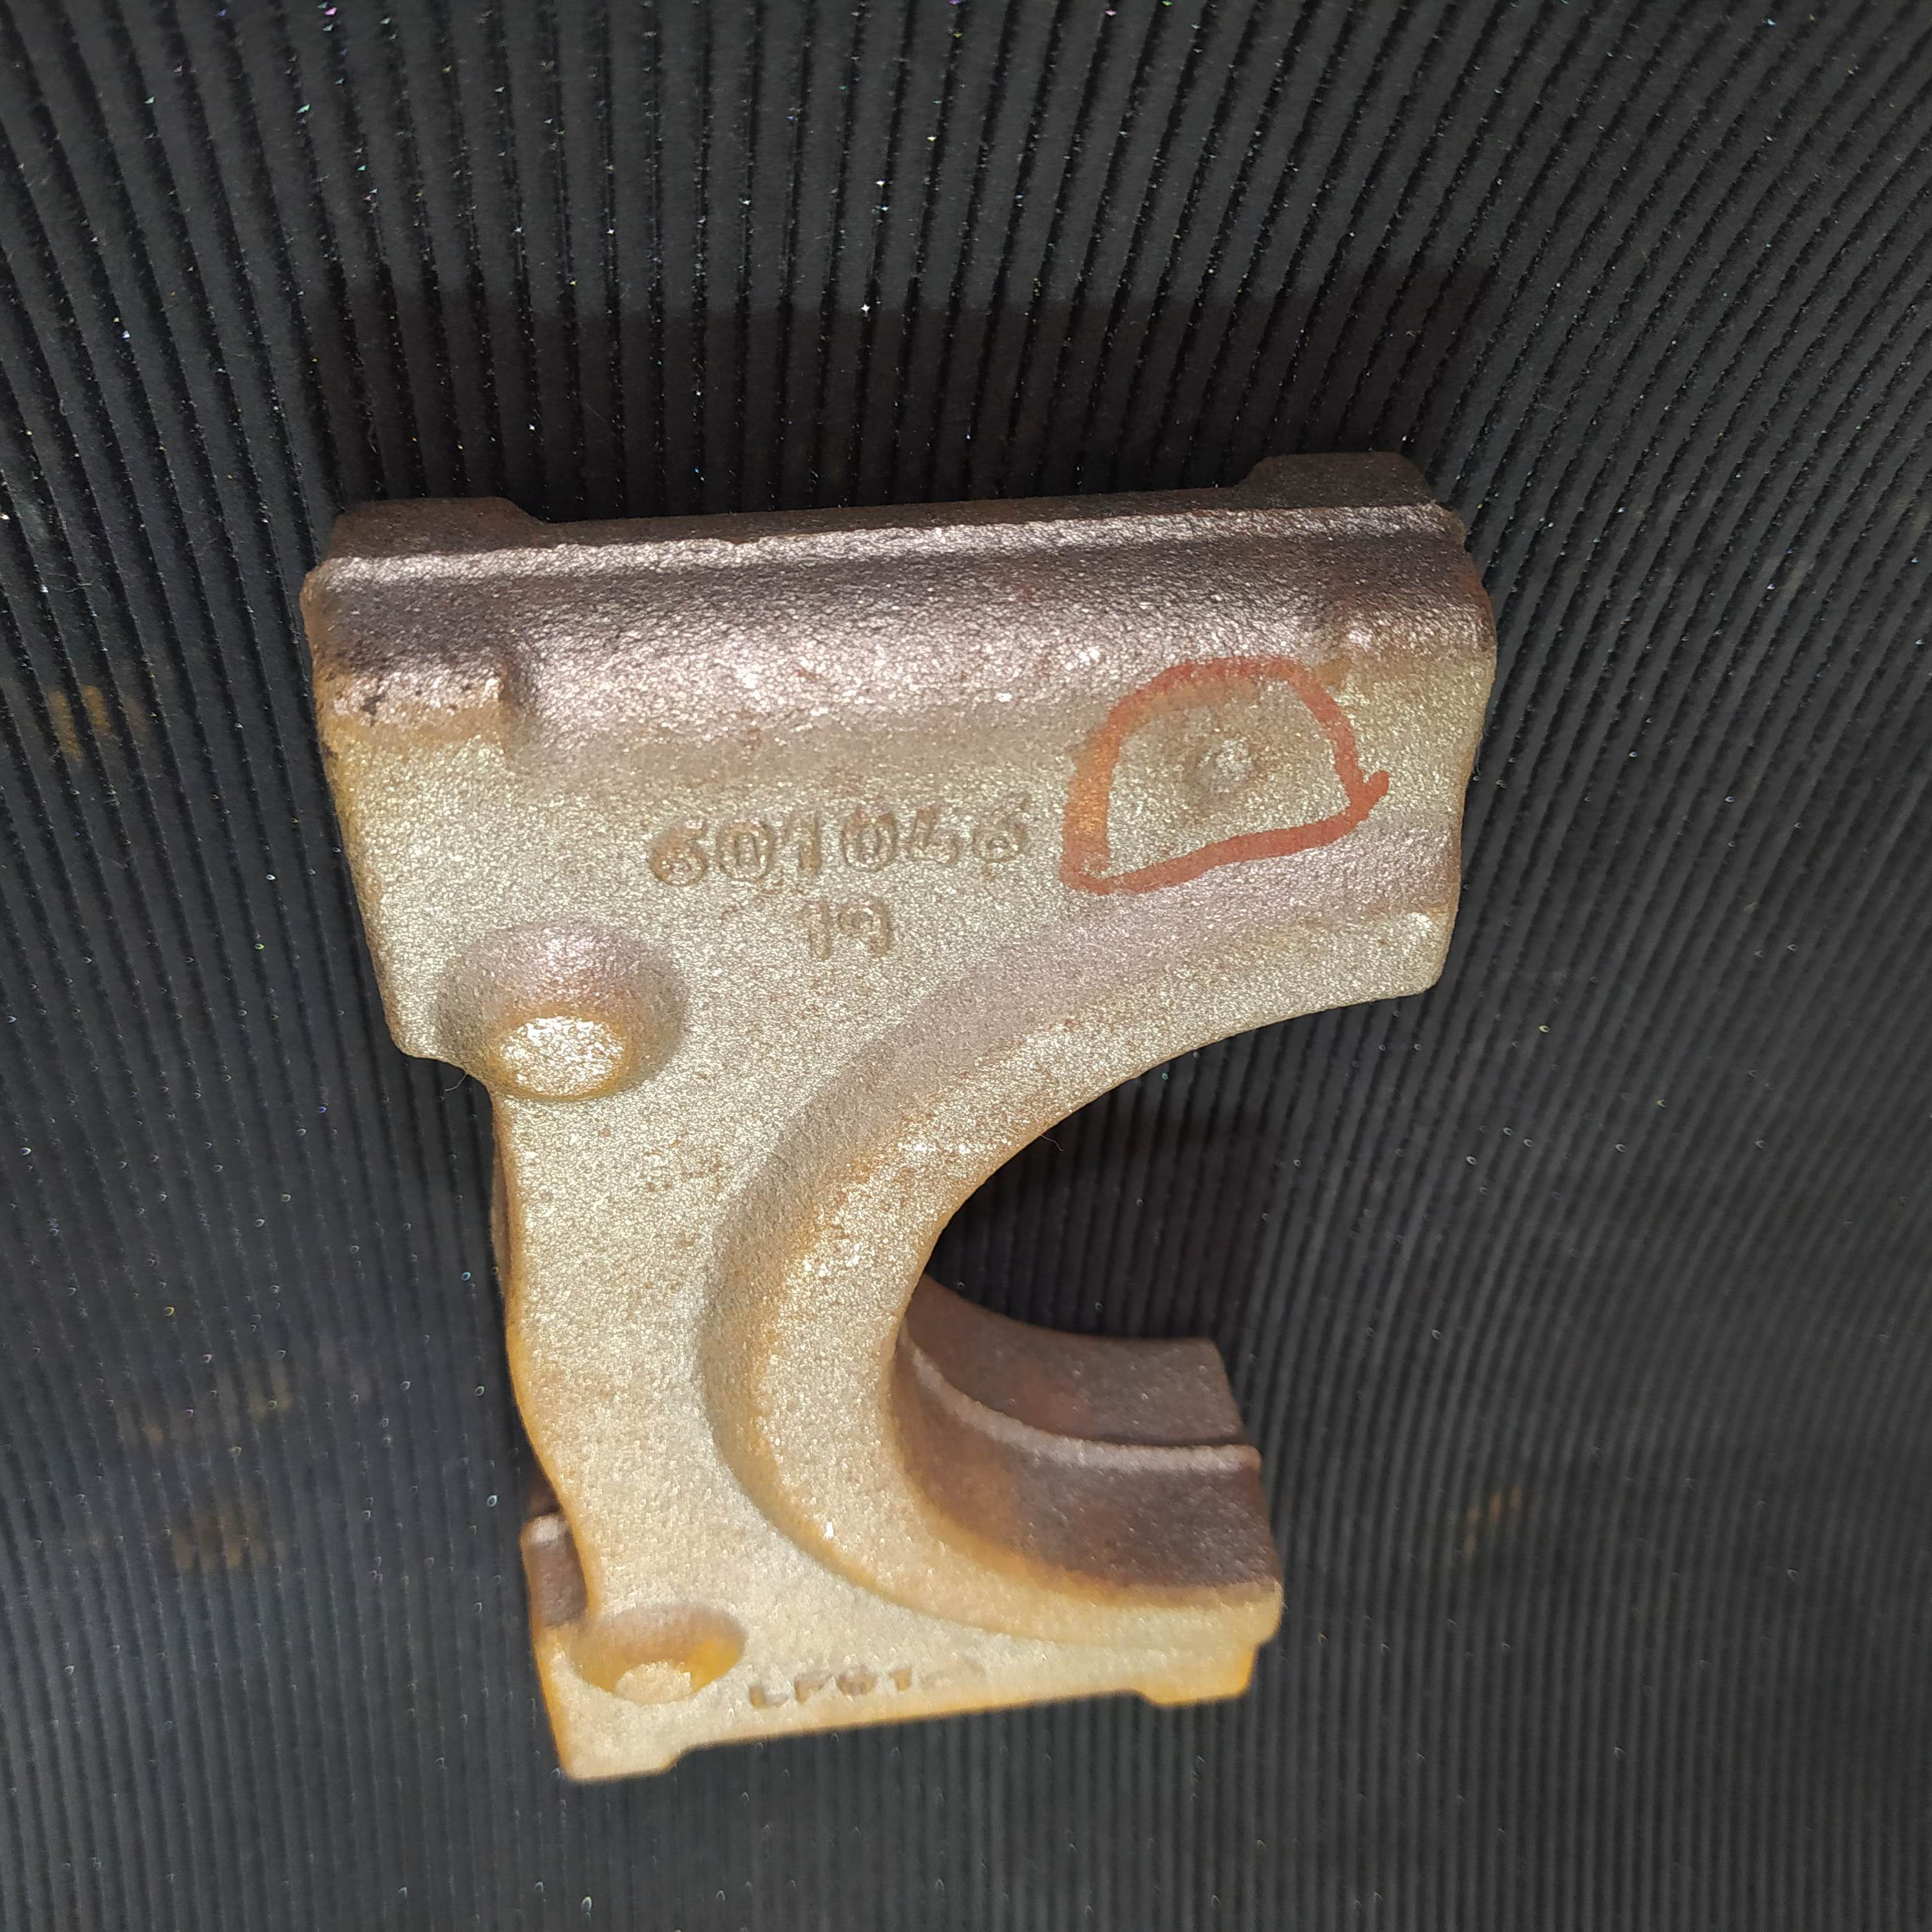buraco: (1178, 727, 1269, 812)
